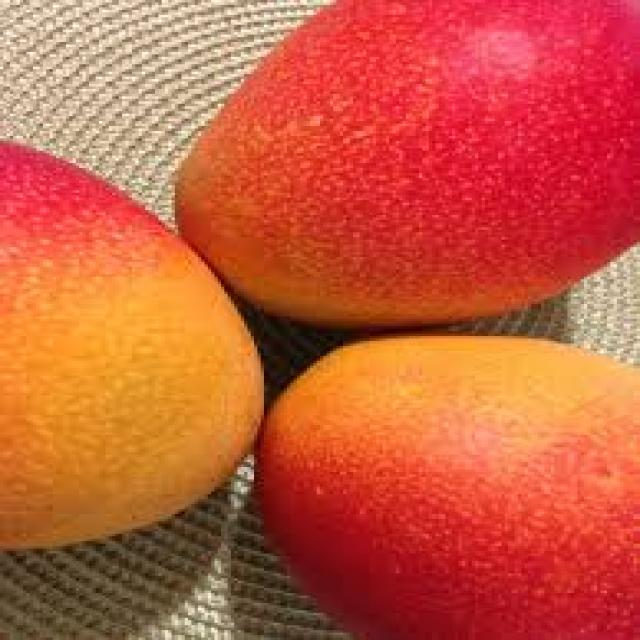mango: (175, 0, 640, 336)
